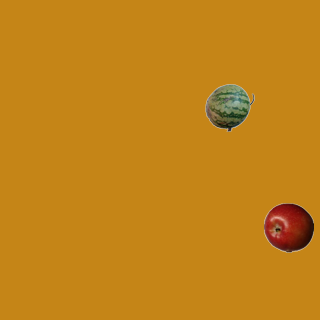Apple Braeburn: (263, 202, 313, 252)
Watermelon: (204, 82, 254, 132)
